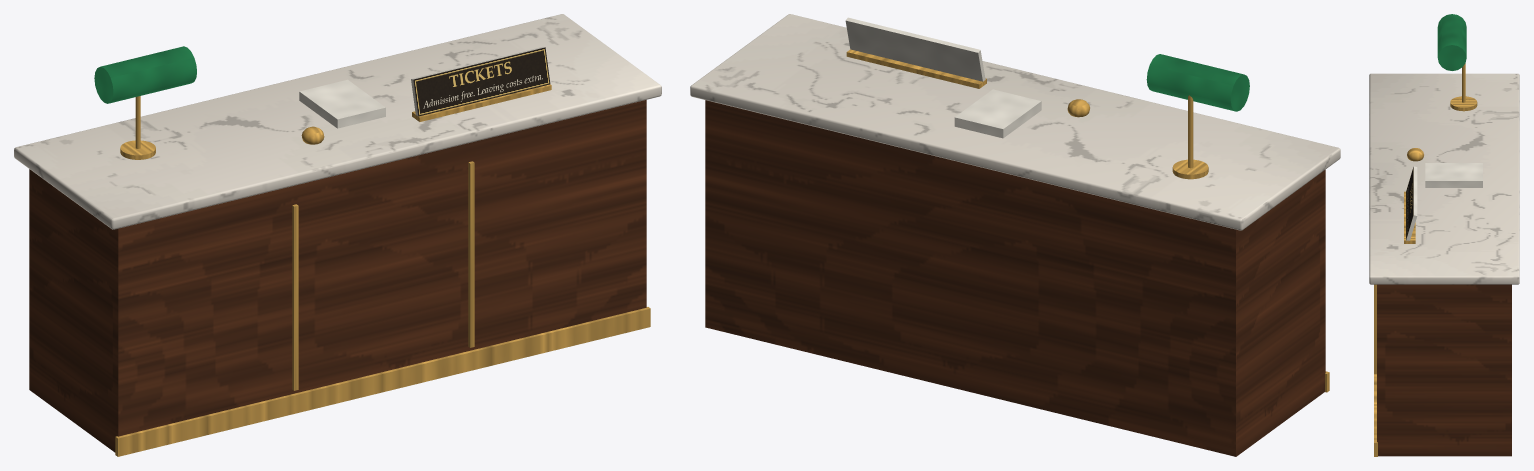
Rendered from ticket_desk.gltf.
3 renders of one model, left to right at view 1: azimuth 30°, elevation 25°; view 2: azimuth 150°, elevation 25°; view 3: azimuth 270°, elevation 25°, orthographic. The views are drawn at different scales.
Visible parts, largest first — view 1: TicketDesk; view 2: TicketDesk; view 3: TicketDesk.
Part boxes in pixels (x1,y1,x2,y2): TicketDesk: (14,14,661,456); TicketDesk: (690,14,1340,456); TicketDesk: (1369,14,1519,456).
Bounding box in the file's own units: 2.5 × 1.49 × 0.78.
Materials: 5 (5 with a texture image).
